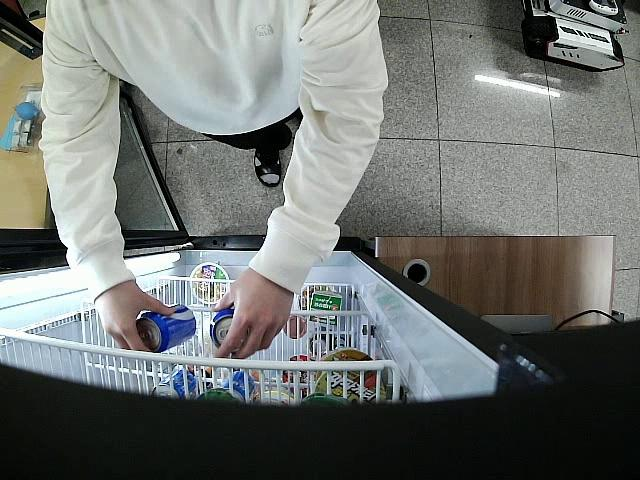00_hand: (211, 275, 293, 357), (94, 291, 175, 353)
13_pocariSweat: (137, 303, 197, 353), (208, 309, 249, 358)
